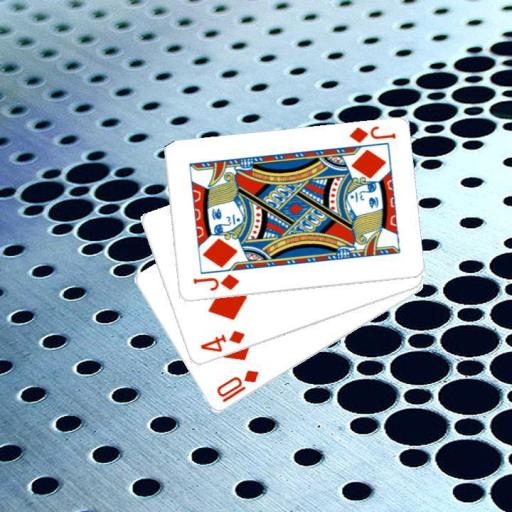10D: (214, 367, 261, 405)
4D: (197, 327, 246, 354)
JD: (190, 271, 241, 293), (346, 123, 397, 145)
